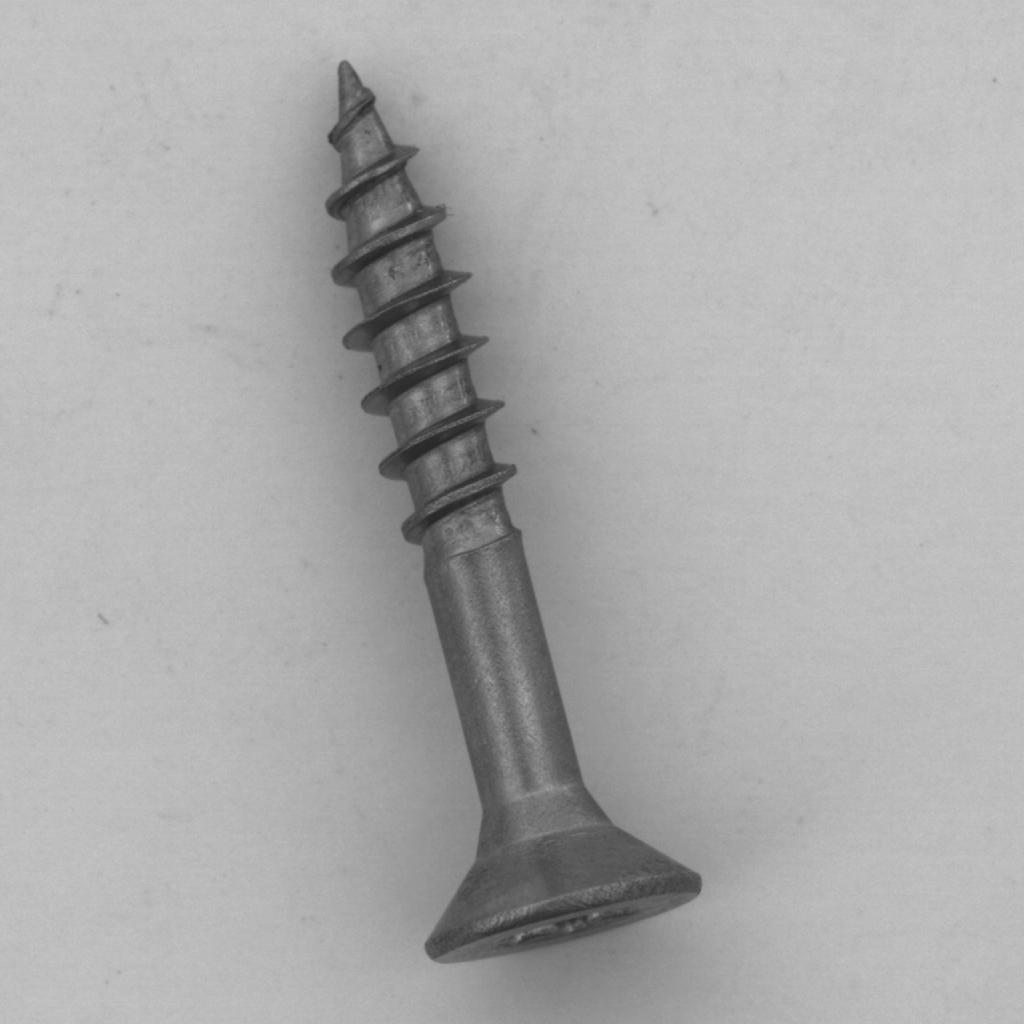good: (292, 41, 722, 979)
